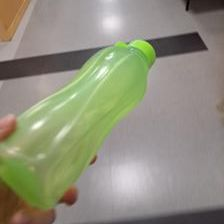bottle: (0, 37, 158, 209)
